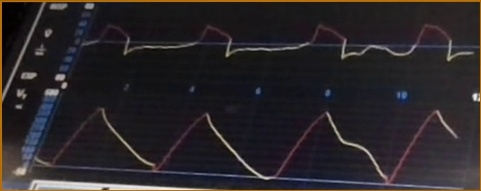Ineffective_effort Flow: (86, 14, 474, 75)
Ineffective_effort Volume: (35, 103, 458, 185)
